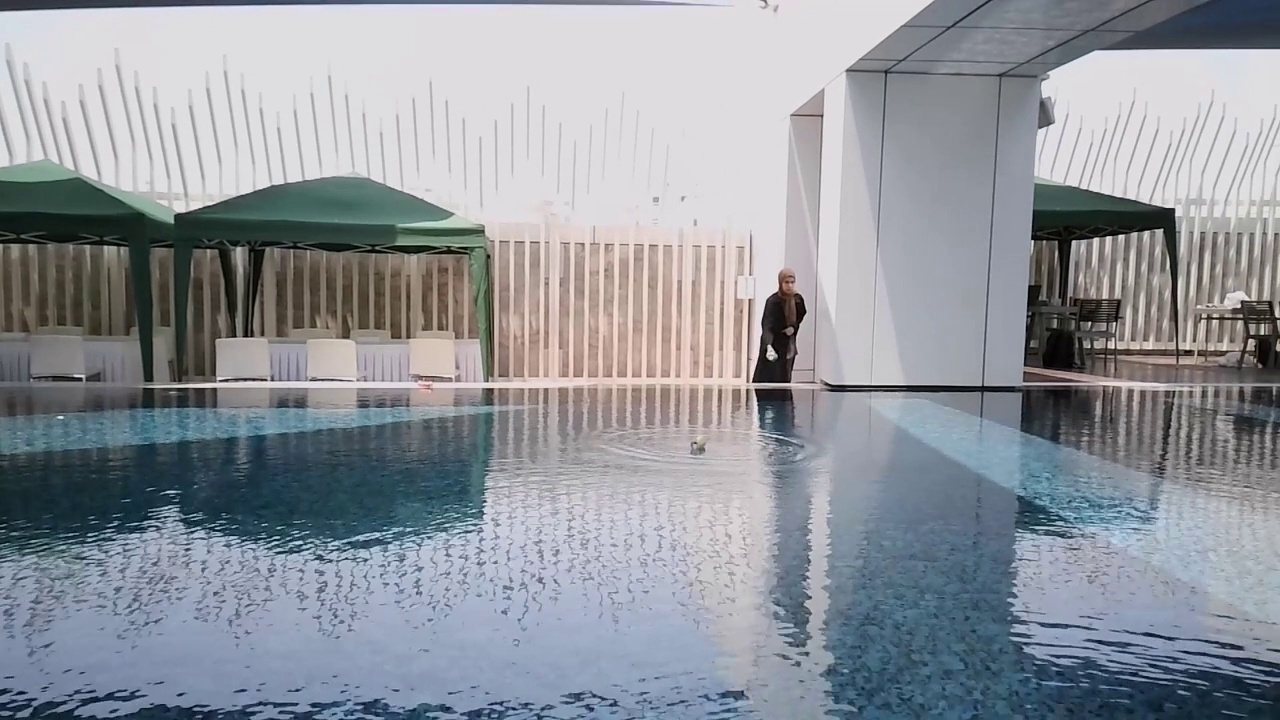debris: (689, 432, 709, 453), (411, 375, 434, 393)
